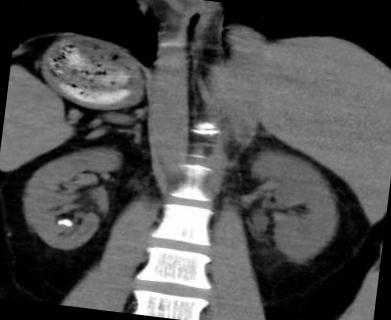Tas_Var: (55, 214, 73, 230)
